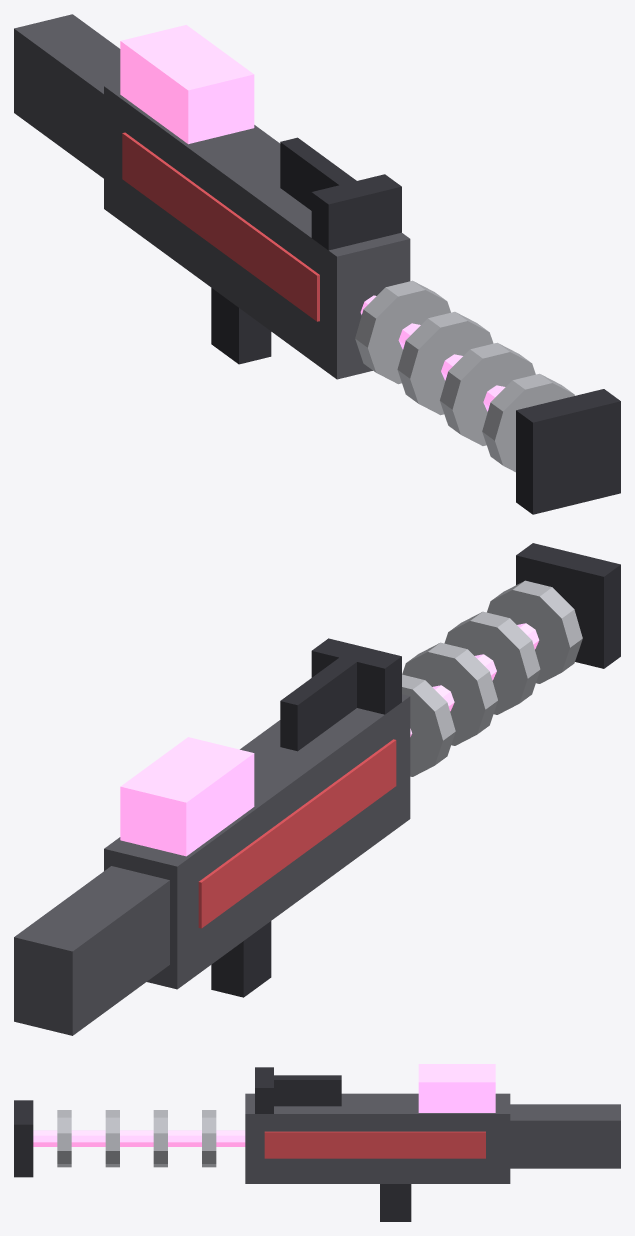
Rendered from weapon_F2_ArcCannon.glb.
The picture shows the model from 3 angles, top to bottom: view 1: azimuth 30°, elevation 25°; view 2: azimuth 150°, elevation 25°; view 3: azimuth 270°, elevation 25°; orthographic projection. The views are drawn at different scales.
Parts seen in each view (by area): view 1: Body, Mag; view 2: Body, Mag; view 3: Body, Mag.
Part boxes in pixels (x1,y1,x2,y2): Body: [14, 14, 620, 514]; Mag: [120, 25, 254, 144]; Body: [14, 543, 620, 1035]; Mag: [120, 737, 254, 856]; Body: [14, 1067, 620, 1221]; Mag: [418, 1064, 495, 1112].
Size of the model in its own units: 0.12 by 0.33 by 1.26.
